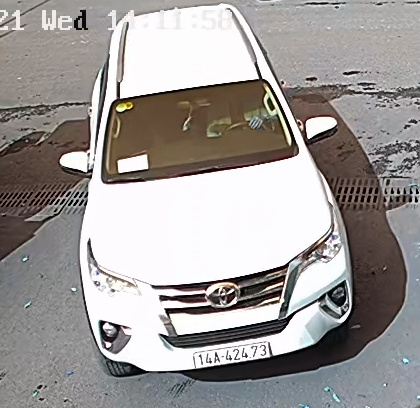vehicle plate: (178, 342, 279, 361)
